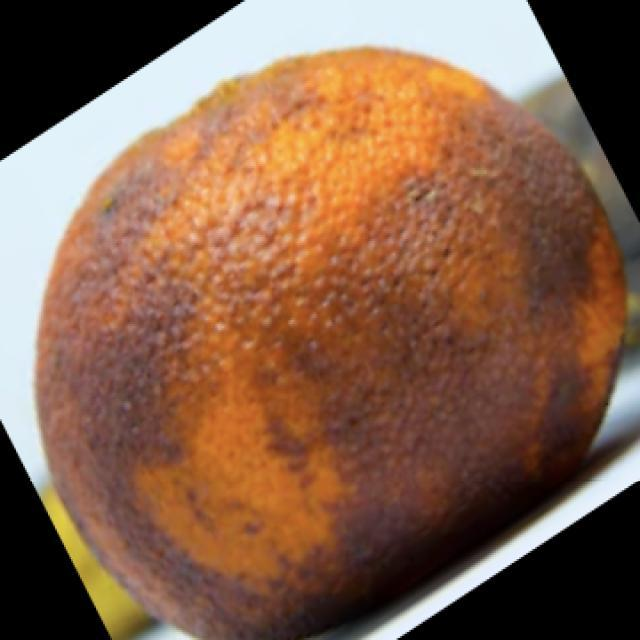sangat-busuk: (36, 49, 625, 639)
